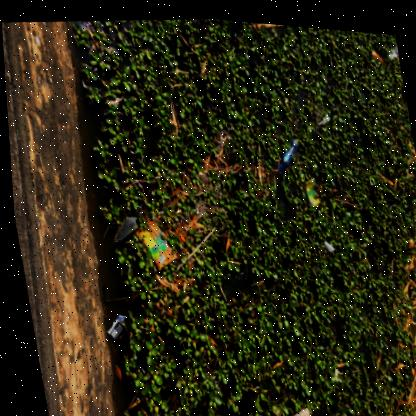Plastic: (132, 216, 173, 267), (109, 213, 134, 239), (101, 311, 124, 339), (276, 132, 296, 164), (302, 169, 317, 200), (314, 95, 328, 120), (227, 260, 243, 281)
Waste: (320, 233, 332, 245), (387, 40, 397, 51), (392, 36, 399, 48), (348, 128, 352, 134), (276, 159, 280, 164)
